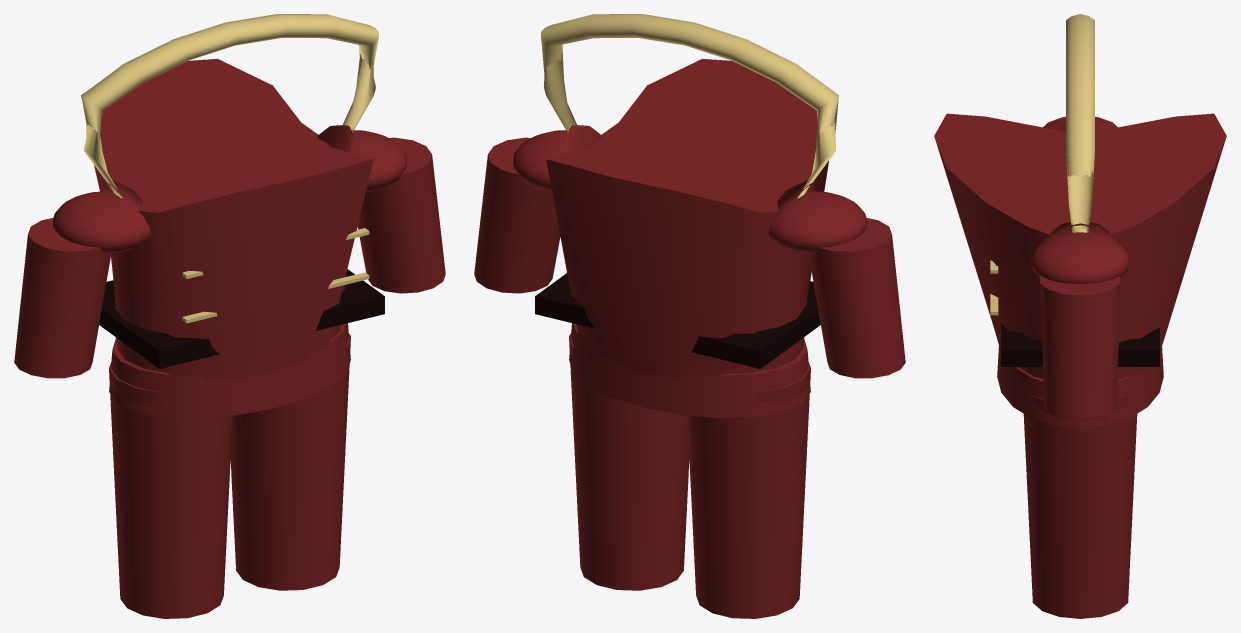
The model's file is suit_ancient_2.glb.
3 views of the same model, side by side, from view 1: azimuth 30°, elevation 25°; view 2: azimuth 150°, elevation 25°; view 3: azimuth 270°, elevation 25° (orthographic). The views are drawn at different scales.
Bounding box in the file's own units: 0.774 × 0.9817 × 0.4947.
